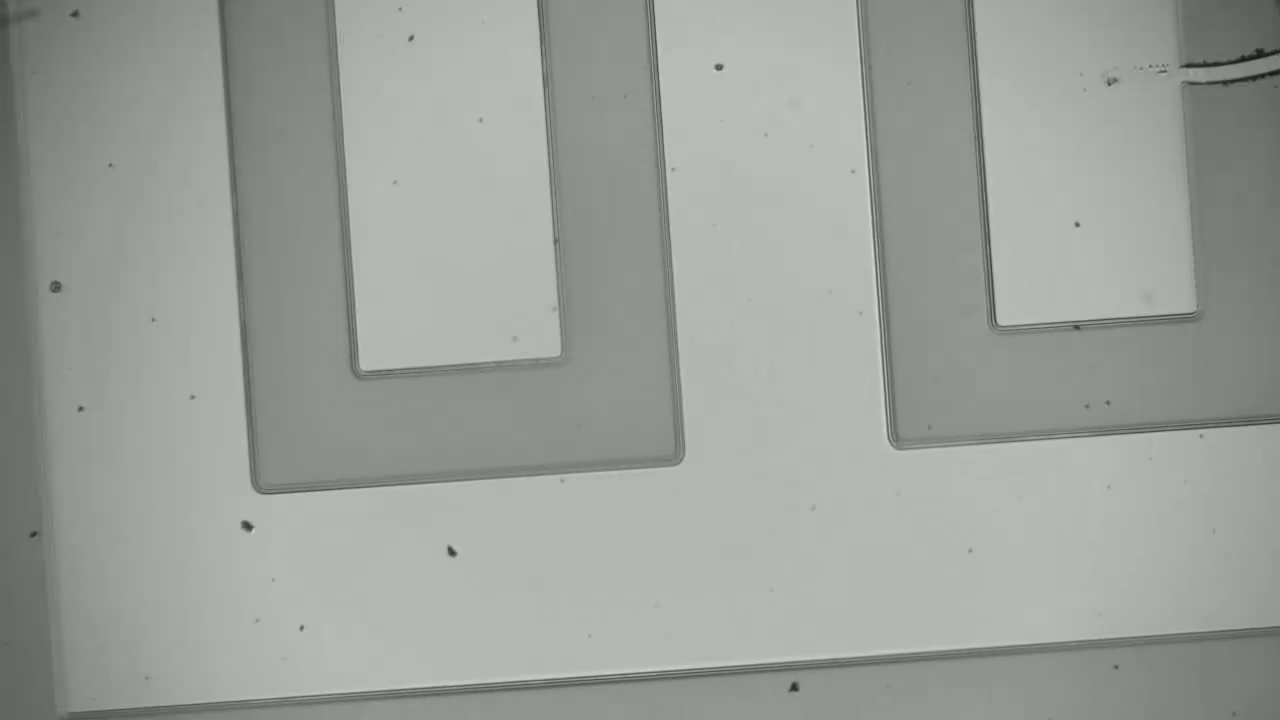Short_circuit: (1151, 27, 1280, 110)
